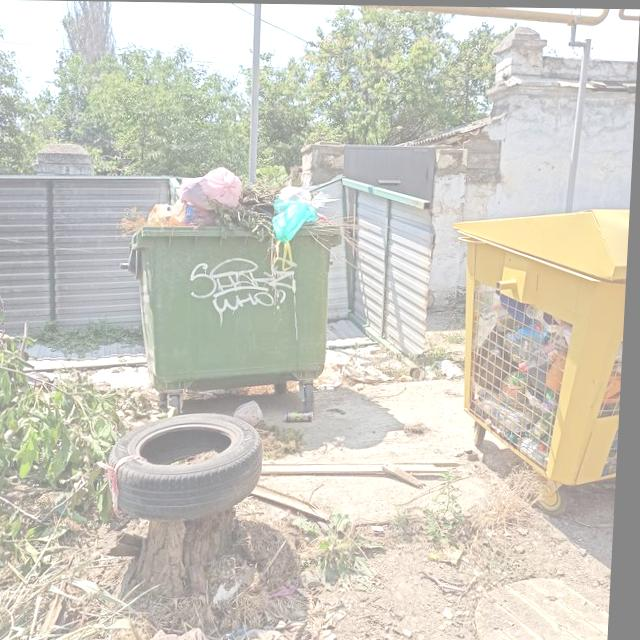Trash_Can_Full: (445, 202, 632, 484), (125, 167, 350, 391)
